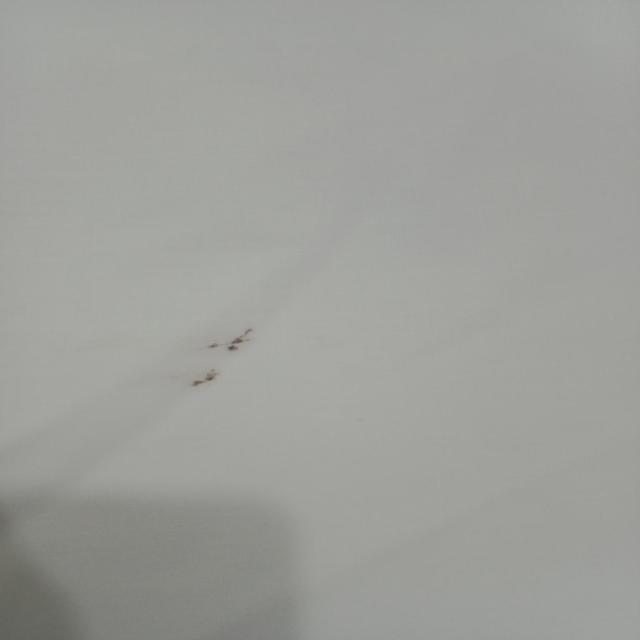stain: (184, 320, 261, 392)
